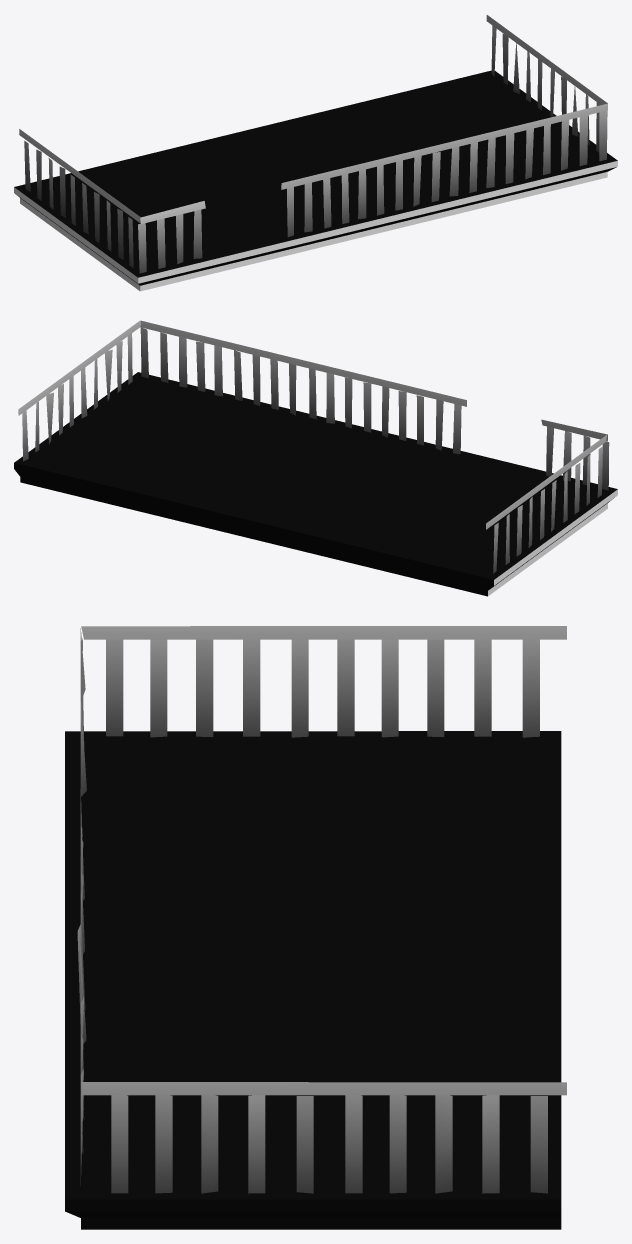
The model's file is Porch3.glb.
3 renders of one model, top to bottom at view 1: azimuth 30°, elevation 25°; view 2: azimuth 150°, elevation 25°; view 3: azimuth 270°, elevation 25°, orthographic. The views are drawn at different scales.
Parts seen in each view (by area): view 1: Porch3; view 2: Porch3; view 3: Porch3.
Boxes of the visible parts, box(x1,y1,x2,y2) form: Porch3: box(14, 15, 617, 291); Porch3: box(14, 320, 617, 596); Porch3: box(65, 626, 566, 1229).
Size of what is drawn, in the model's own units: 12.05 by 1.77 by 5.46.
Materials: 1 (1 with a texture image).
